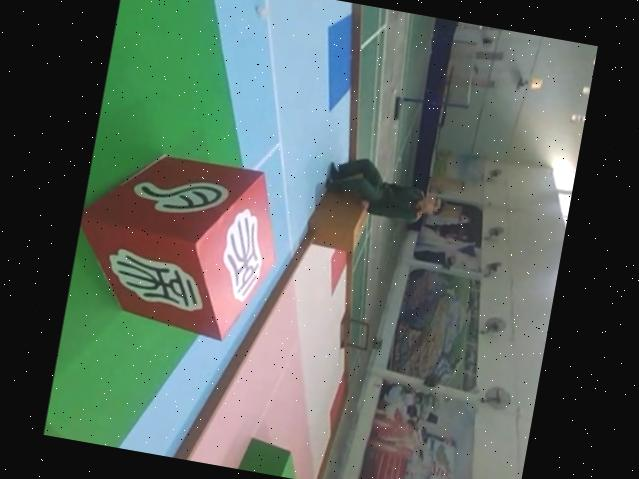R2 Fake: (64, 139, 290, 346)
